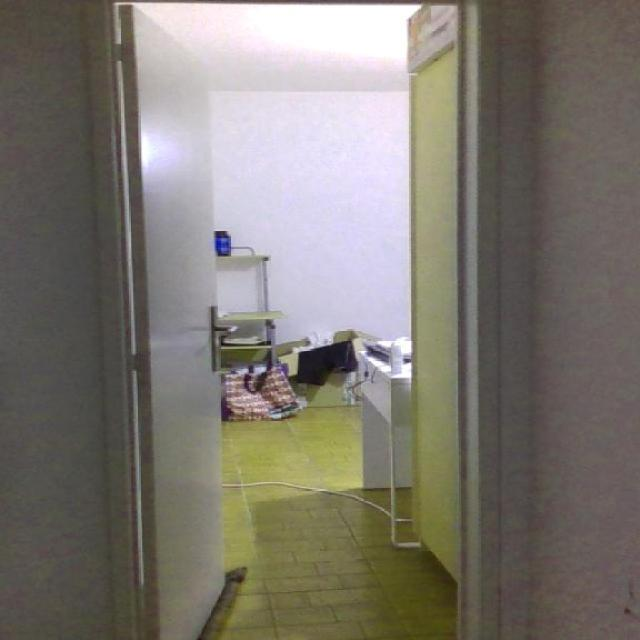door: (104, 6, 229, 640)
